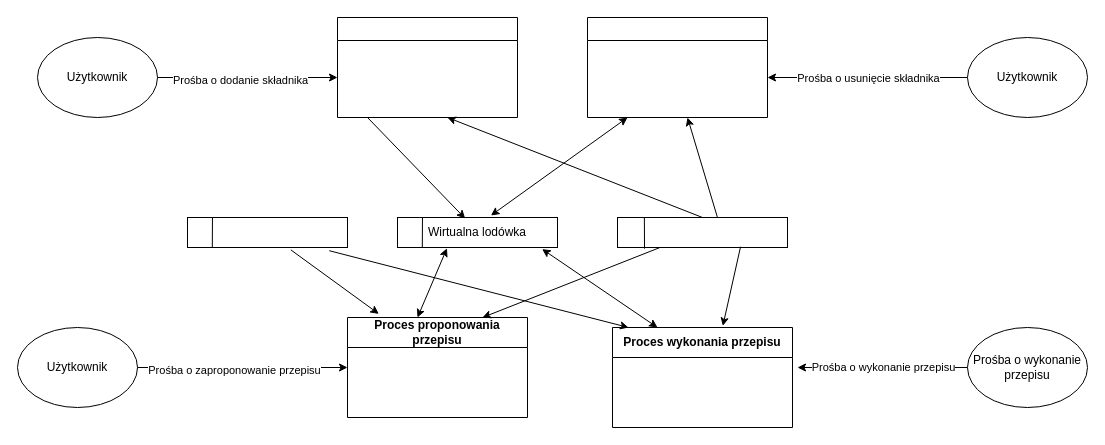
Image size: 1105x445. Some labels were removed from this diagram. Each missing label, with the centre of its shape:
Baza przepisów: the point at 267,232
Baza składników: the point at 702,232
Proces dodawania składnika: the point at 427,67
Proces usuwania składnika: the point at 677,67
